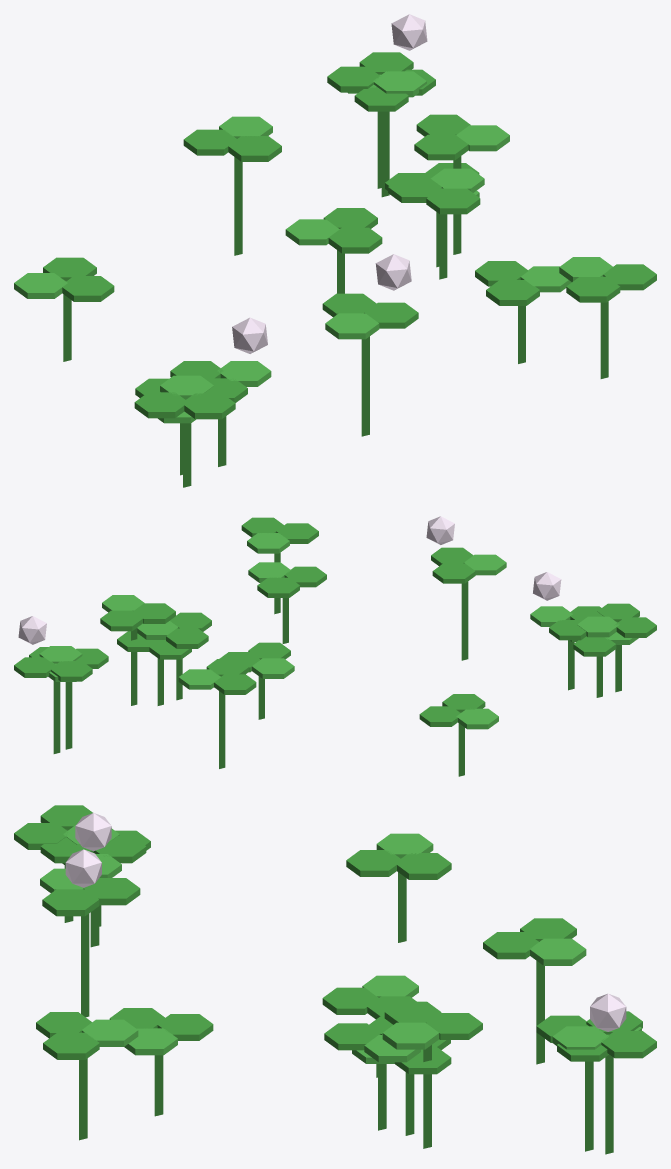
The model's file is trevo.glb.
3 renders of one model, top to bottom at view 1: azimuth 30°, elevation 25°; view 2: azimuth 150°, elevation 25°; view 3: azimuth 270°, elevation 25°, orthographic. The views are drawn at different scales.
Visible parts, largest first — view 1: folha_12_2, folha_10_0, folha_9_1, folha_13_2, folha_1_2, folha_8_1, folha_1_1, folha_7_2, folha_6_2, folha_7_1, folha_3_0, folha_9_0 (+28 smaller); view 2: folha_12_1, folha_3_0, folha_10_2, folha_8_0, folha_9_0, folha_13_1, folha_7_1, folha_6_1, folha_1_1, folha_5_2, folha_4_2, folha_10_0 (+31 smaller); view 3: folha_10_1, folha_12_0, folha_7_0, folha_8_2, folha_5_1, folha_3_2, folha_7_2, folha_9_1, folha_3_1, folha_8_0, folha_13_2, folha_12_1 (+33 smaller).
Part boxes in pixels (x1,y1,x2,y2): folha_12_2: (414, 134, 468, 160); folha_10_0: (325, 313, 379, 339); folha_9_1: (328, 227, 382, 253); folha_13_2: (426, 188, 480, 214); folha_1_2: (181, 393, 235, 419); folha_8_1: (566, 276, 620, 302); folha_1_1: (134, 392, 187, 418); folha_7_2: (228, 136, 281, 161); folha_6_2: (486, 280, 539, 305); folha_7_1: (183, 129, 237, 155); folha_3_0: (14, 273, 67, 298); folha_9_0: (285, 219, 339, 245); folha_12_1: (100, 610, 142, 631); folha_3_0: (456, 708, 498, 729); folha_10_2: (432, 563, 475, 583); folha_8_0: (247, 533, 289, 553); folha_9_0: (252, 658, 294, 678); folha_13_1: (166, 628, 208, 648); folha_7_1: (214, 674, 256, 694); folha_6_1: (257, 577, 299, 597); folha_1_1: (614, 617, 656, 637); folha_5_2: (50, 661, 92, 681); folha_4_2: (573, 637, 616, 656); folha_10_0: (464, 554, 506, 575); folha_10_1: (42, 889, 99, 916); folha_12_0: (382, 1022, 439, 1049); folha_7_0: (530, 938, 586, 965); folha_8_2: (43, 1032, 99, 1059); folha_5_1: (600, 1031, 656, 1058); folha_3_2: (395, 853, 451, 879); folha_7_2: (483, 932, 538, 959); folha_9_1: (322, 987, 378, 1014); folha_3_1: (346, 850, 402, 876); folha_8_0: (82, 1019, 138, 1046); folha_13_2: (324, 1023, 380, 1050); folha_12_1: (426, 1013, 482, 1039).
Size of the model in its own units: 0.9239 by 0.2835 by 0.907.
